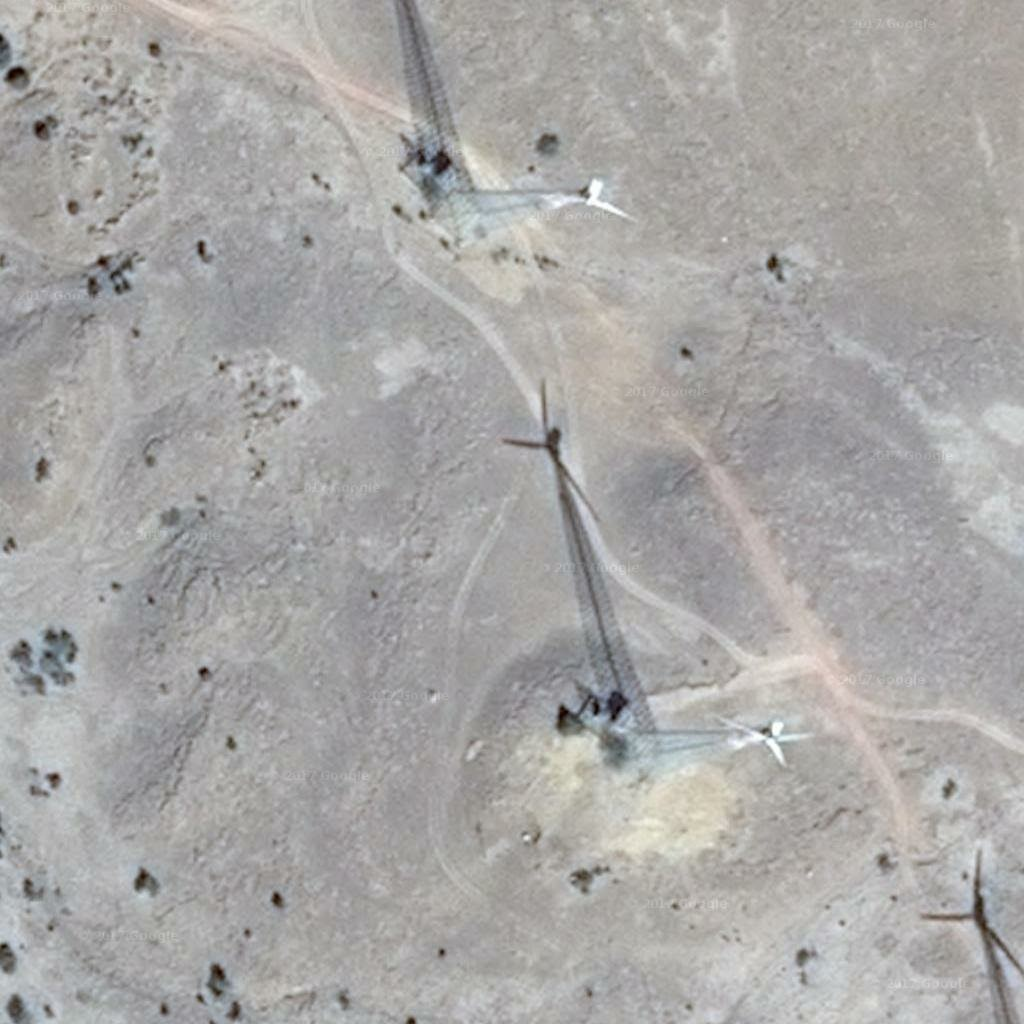Windmill: (501, 380, 666, 730)
